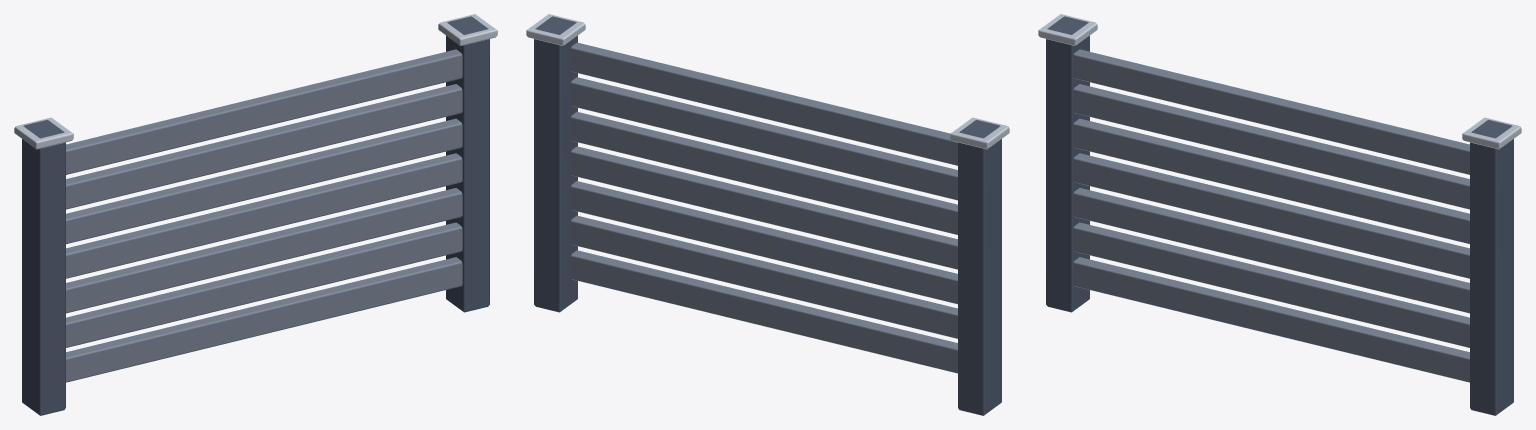
File: 横条围栏-lite.glb
The picture shows the model from 3 angles, left to right: view 1: azimuth 30°, elevation 25°; view 2: azimuth 150°, elevation 25°; view 3: azimuth 330°, elevation 25°; orthographic projection.
Visible parts, largest first — view 1: garden-fence-horizontal; view 2: garden-fence-horizontal; view 3: garden-fence-horizontal.
Boxes of the visible parts, x1=… form: garden-fence-horizontal: x1=14, y1=14, x2=497, y2=415; garden-fence-horizontal: x1=526, y1=14, x2=1009, y2=415; garden-fence-horizontal: x1=1038, y1=14, x2=1521, y2=415.
Bounding box in the file's own units: 2 × 1.15 × 0.1701.
